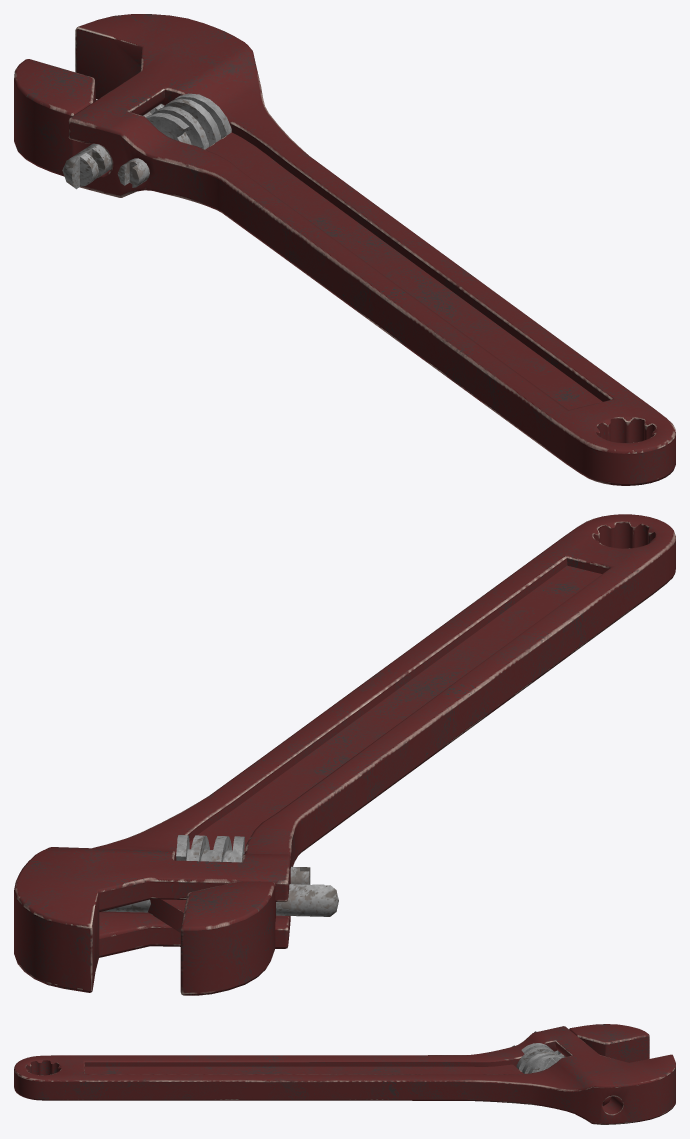
The model's file is old_wrench.glb.
3 renders of one model, top to bottom at view 1: azimuth 30°, elevation 25°; view 2: azimuth 150°, elevation 25°; view 3: azimuth 270°, elevation 25°, orthographic. The views are drawn at different scales.
Visible parts, largest first — view 1: Wrench_Wrench_0; view 2: Wrench_Wrench_0; view 3: Wrench_Wrench_0.
Boxes of the visible parts, <box> form: Wrench_Wrench_0: <box>14,14,675,485</box>; Wrench_Wrench_0: <box>14,514,675,995</box>; Wrench_Wrench_0: <box>14,1024,675,1124</box>.
Size of the model in its own units: 0.2171 by 0.0637 by 0.8915.
1 material, 1 textured.
